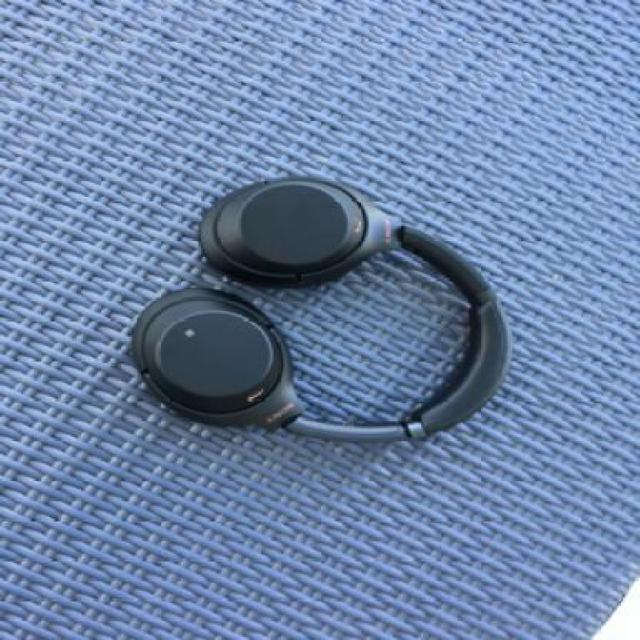earphone: (147, 98, 543, 450)
